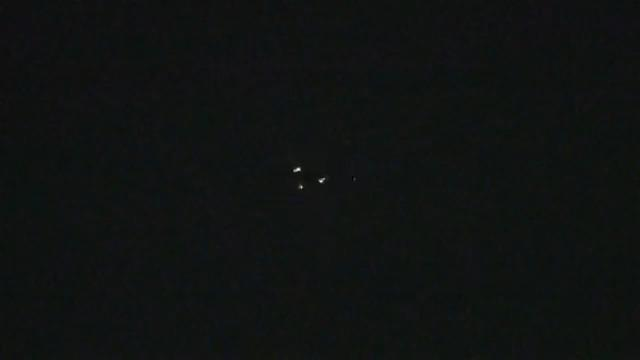Plane: (267, 161, 340, 198)
